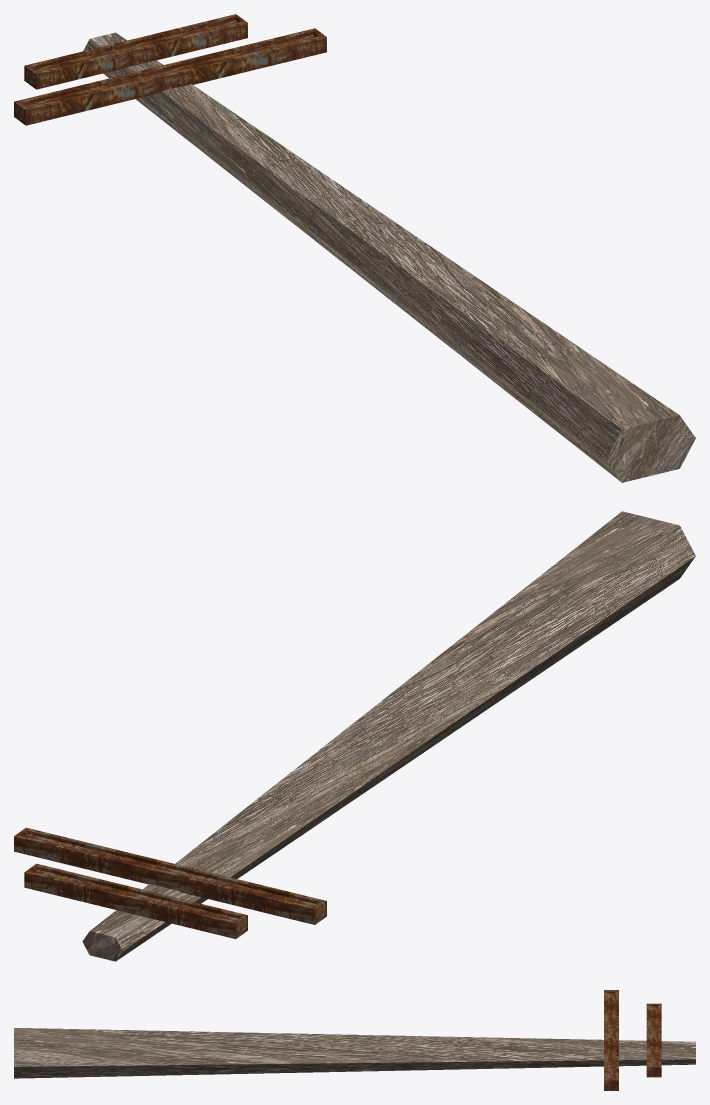
Rendered from powerpole.fbx.
3 views of the same model, one above another, from view 1: azimuth 30°, elevation 25°; view 2: azimuth 150°, elevation 25°; view 3: azimuth 270°, elevation 25° (orthographic). The views are drawn at different scales.
Visible parts, largest first — view 1: Cube.004; view 2: Cube.004; view 3: Cube.004.
Part boxes in pixels (x1,y1,x2,y2): Cube.004: [14, 14, 695, 482]; Cube.004: [14, 511, 695, 961]; Cube.004: [14, 990, 695, 1090].
Size of the model in its own units: 529 by 92.08 by 1670.
Materials: 1 (1 with a texture image).
